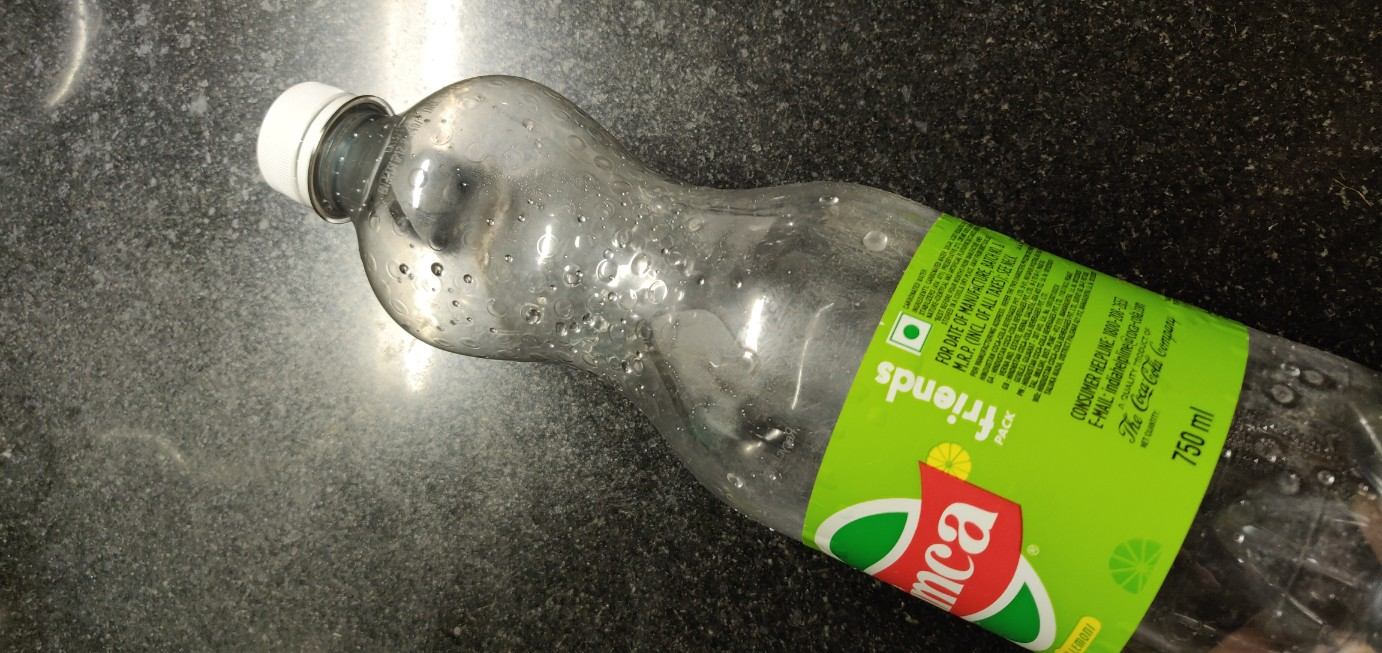Electronics: (237, 58, 1381, 651)
